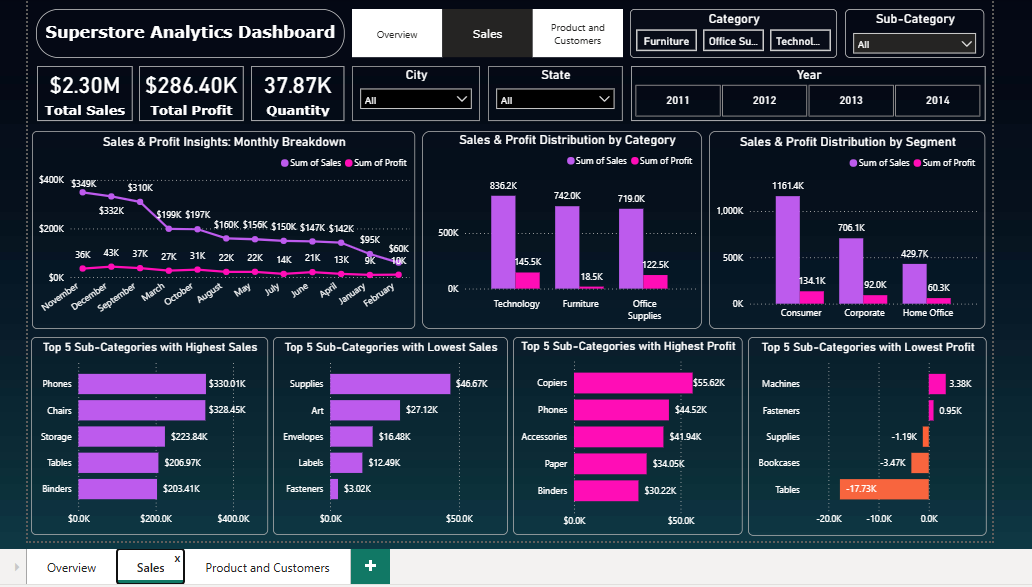

What the dashboard file says about the page in this screenshot:
{"tool":"powerbi","page":{"name":"Sales","canvas":[1280,720],"ordinal":1},"visuals":[{"type":"textbox","box":[10.3,13.2,410.3,64.7],"z":0},{"type":"card","fields":{"Values":["Sum(Orders.Sales)"]},"box":[11.7,89.3,127.3,73.2],"z":1000},{"type":"pageNavigator","box":[430.9,13.2,360.3,64.7],"z":2000},{"type":"advancedSlicerVisual","fields":{"Values":["Orders.Category"]},"box":[800,13.2,275,64.7],"z":3000},{"type":"slicer","title":"Sub-Category","fields":{"Values":["Orders.Sub-Category"]},"box":[1085.3,13.2,185.3,64.7],"z":4000},{"type":"advancedSlicerVisual","fields":{"Values":["Date Table.Year"]},"box":[800.5,89.3,471.2,73.2],"z":5000},{"type":"card","fields":{"Values":["Sum(Orders.Profit)"]},"box":[147.8,89.3,139,73.2],"z":6000},{"type":"card","fields":{"Values":["Sum(Orders.Quantity)"]},"box":[295.6,89.3,124.4,73.2],"z":7000},{"type":"slicer","title":"City","fields":{"Values":["Orders.City"]},"box":[430.2,89.3,169.8,73.2],"z":8000},{"type":"slicer","title":"State","fields":{"Values":["Orders.State"]},"box":[611.7,89.3,178.5,73.2],"z":9000},{"type":"lineChart","title":"Sales & Profit Insights: Monthly Breakdown","fields":{"Category":["Date Table.Month Name"],"Y":["Sum(Orders.Sales)","Sum(Orders.Profit)"]},"box":[5.9,175.6,509.3,263.4],"z":10000},{"type":"clusteredColumnChart","title":"Sales & Profit Distribution by Category","fields":{"Category":["Orders.Category"],"Y":["Sum(Orders.Sales)","Sum(Orders.Profit)"]},"box":[523.9,175.6,371.7,263.4],"z":11000},{"type":"clusteredColumnChart","title":"Sales & Profit Distribution by Segment","fields":{"Category":["Orders.Segment"],"Y":["Sum(Orders.Sales)","Sum(Orders.Profit)"]},"box":[904.4,175.6,367.3,263.4],"z":12000},{"type":"barChart","title":"Top 5 Sub-Categories with Highest Sales","fields":{"Category":["Orders.Sub-Category"],"Y":["Sum(Orders.Sales)"]},"box":[4.4,449.3,314.6,263.4],"z":13000},{"type":"barChart","title":"Top 5 Sub-Categories with Lowest Sales","fields":{"Category":["Orders.Sub-Category"],"Y":["Sum(Orders.Sales)"]},"box":[324.9,449.3,311.7,263.4],"z":14000},{"type":"barChart","title":"Top 5 Sub-Categories with Highest Profit","fields":{"Category":["Orders.Sub-Category"],"Y":["Sum(Orders.Profit)"]},"box":[643.9,449.3,305,263.4],"z":15000},{"type":"barChart","title":"Top 5 Sub-Categories with Lowest Profit","fields":{"Category":["Orders.Sub-Category"],"Y":["Sum(Orders.Profit)"]},"box":[955.8,448.5,317.5,263.7],"z":16000}]}

Visuals, with their boxes on the page's 1280x720 design canvas (x1, y1, x2, y2). These are canvas units, not pixel positions in the 1032x587 screenshot, which may show the page scaled, cropped or inside an application window:
textbox: bbox=(10, 13, 421, 78)
card - Sum(Orders.Sales): bbox=(12, 89, 139, 162)
pageNavigator: bbox=(431, 13, 791, 78)
advancedSlicerVisual - Orders.Category: bbox=(800, 13, 1075, 78)
"Sub-Category" slicer: bbox=(1085, 13, 1271, 78)
advancedSlicerVisual - Date Table.Year: bbox=(800, 89, 1272, 162)
card - Sum(Orders.Profit): bbox=(148, 89, 287, 162)
card - Sum(Orders.Quantity): bbox=(296, 89, 420, 162)
"City" slicer: bbox=(430, 89, 600, 162)
"State" slicer: bbox=(612, 89, 790, 162)
"Sales & Profit Insights: Monthly Breakdown" lineChart: bbox=(6, 176, 515, 439)
"Sales & Profit Distribution by Category" clusteredColumnChart: bbox=(524, 176, 896, 439)
"Sales & Profit Distribution by Segment" clusteredColumnChart: bbox=(904, 176, 1272, 439)
"Top 5 Sub-Categories with Highest Sales" barChart: bbox=(4, 449, 319, 713)
"Top 5 Sub-Categories with Lowest Sales" barChart: bbox=(325, 449, 637, 713)
"Top 5 Sub-Categories with Highest Profit" barChart: bbox=(644, 449, 949, 713)
"Top 5 Sub-Categories with Lowest Profit" barChart: bbox=(956, 448, 1273, 712)
